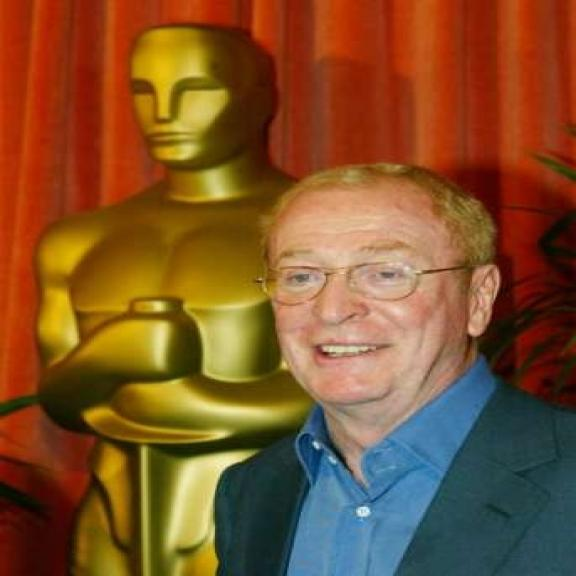face: (271, 207, 509, 413)
